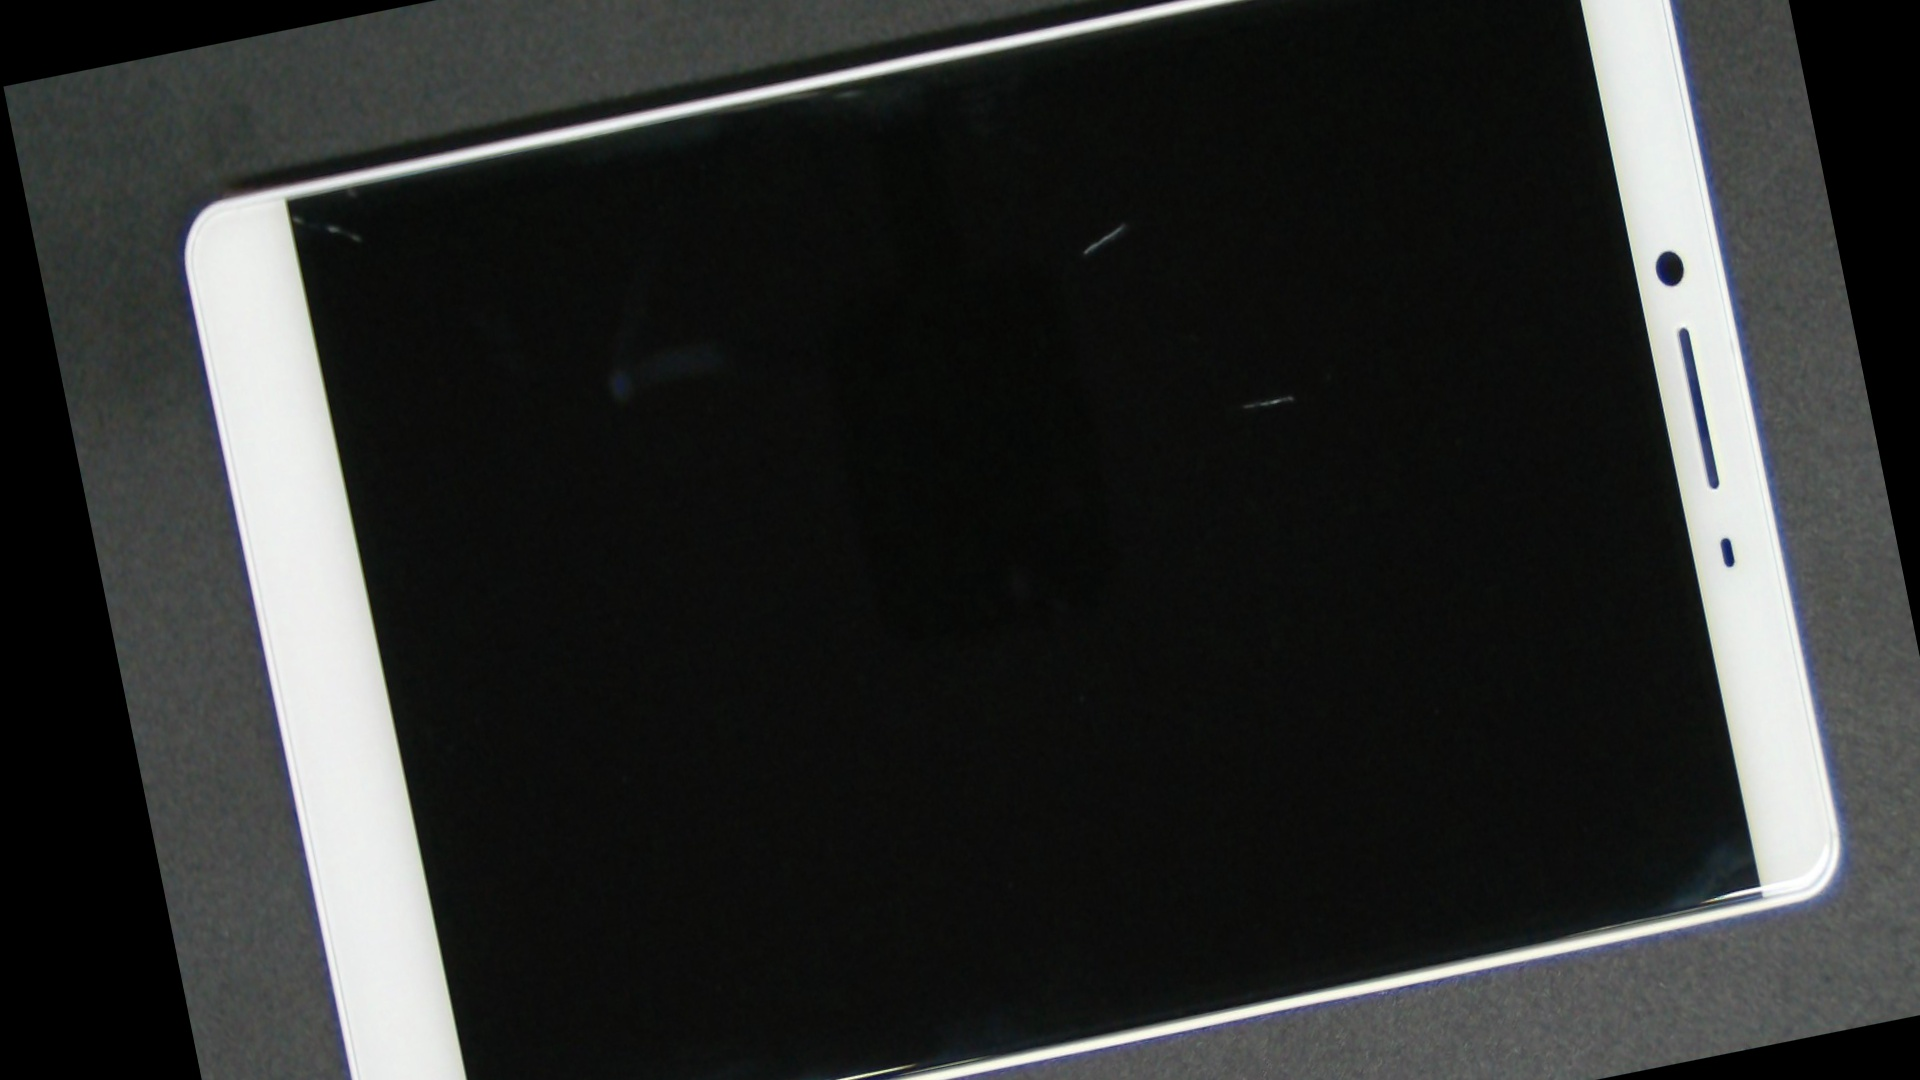oil: (624, 18, 1861, 789), (563, 0, 1681, 501), (148, 99, 439, 335)
